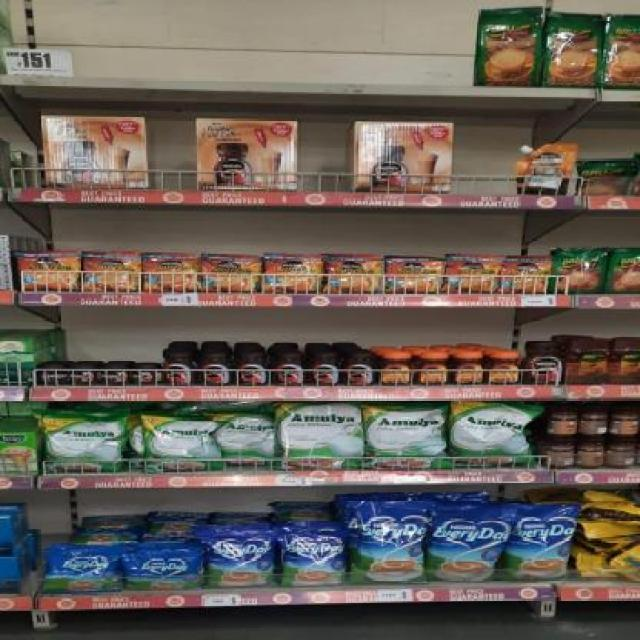Coffee: (22, 252, 79, 291), (85, 253, 141, 292), (203, 256, 259, 293), (145, 254, 199, 292), (267, 255, 321, 293), (328, 255, 380, 294), (389, 258, 441, 294), (448, 258, 499, 294), (503, 257, 551, 294), (525, 341, 564, 385), (162, 353, 198, 386), (197, 353, 233, 386), (271, 353, 304, 386), (235, 353, 267, 386), (308, 353, 341, 385), (416, 353, 449, 385), (343, 353, 375, 385), (487, 353, 519, 385), (378, 353, 410, 385), (451, 353, 483, 385), (100, 365, 130, 387), (39, 363, 67, 385), (69, 365, 97, 387), (132, 365, 161, 386)
